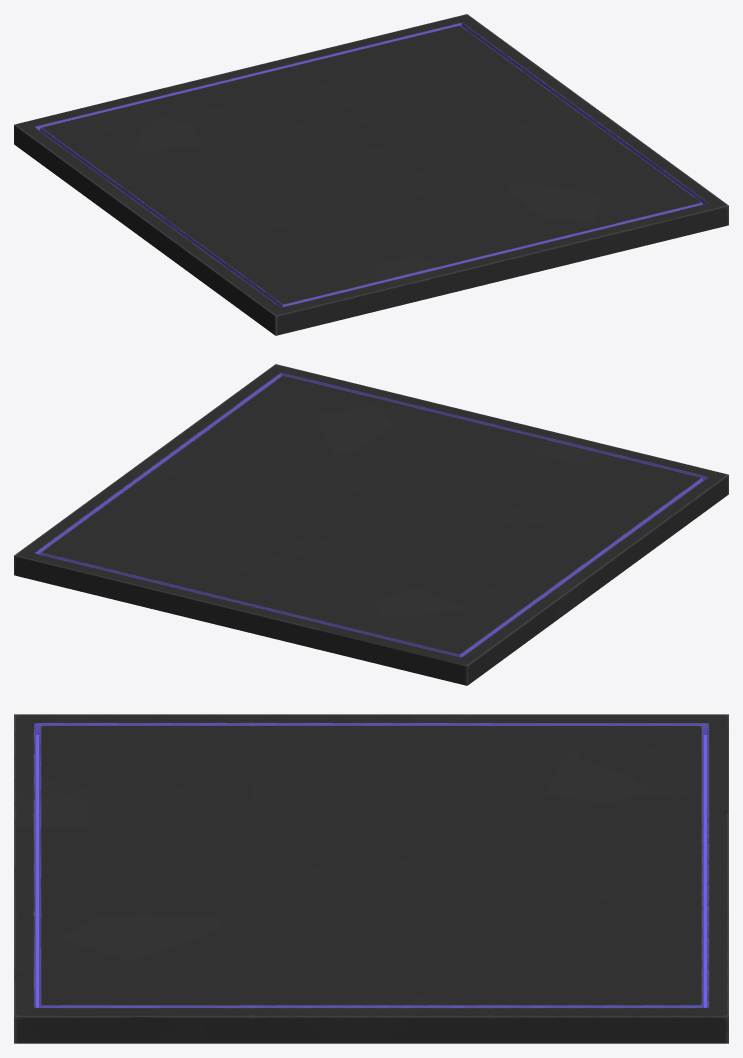
File: cellingtile.fbx
The picture shows the model from 3 angles, top to bottom: view 1: azimuth 30°, elevation 25°; view 2: azimuth 150°, elevation 25°; view 3: azimuth 270°, elevation 25°; orthographic projection. The views are drawn at different scales.
Visible parts, largest first — view 1: Box001, Object013, Object011, Object001, Object005, Object003, Object009, Object007, Object002; view 2: Object001, Object002, Object003, Box001, Object005, Object011, Object009, Object007, Object013; view 3: Object009, Object003, Object011, Box001, Object001, Object002, Object013, Object005, Object007.
Boxes of the visible parts, x1,y1,x2,y2 form: Box001: [188, 215, 426, 335]; Object013: [340, 178, 577, 298]; Object011: [491, 141, 728, 261]; Object001: [14, 88, 251, 207]; Object005: [101, 151, 338, 271]; Object003: [316, 14, 553, 114]; Object009: [404, 78, 641, 178]; Object007: [253, 114, 490, 215]; Object002: [165, 51, 402, 151]; Object001: [316, 565, 554, 685]; Object002: [165, 528, 402, 648]; Object003: [14, 491, 251, 611]; Box001: [491, 438, 728, 557]; Object005: [404, 501, 641, 621]; Object011: [189, 364, 426, 464]; Object009: [101, 428, 338, 528]; Object007: [252, 464, 489, 565]; Object013: [340, 401, 577, 501]; Object009: [252, 916, 490, 1043]; Object003: [490, 916, 728, 1043]; Object011: [14, 916, 252, 1043]; Box001: [14, 714, 252, 826]; Object001: [490, 714, 728, 826]; Object002: [490, 815, 728, 927]; Object013: [14, 815, 252, 927]; Object005: [252, 714, 490, 814]; Object007: [252, 815, 490, 915].
Bounding box in the file's own units: 472 × 19.69 × 472.
1 material, 1 textured.
